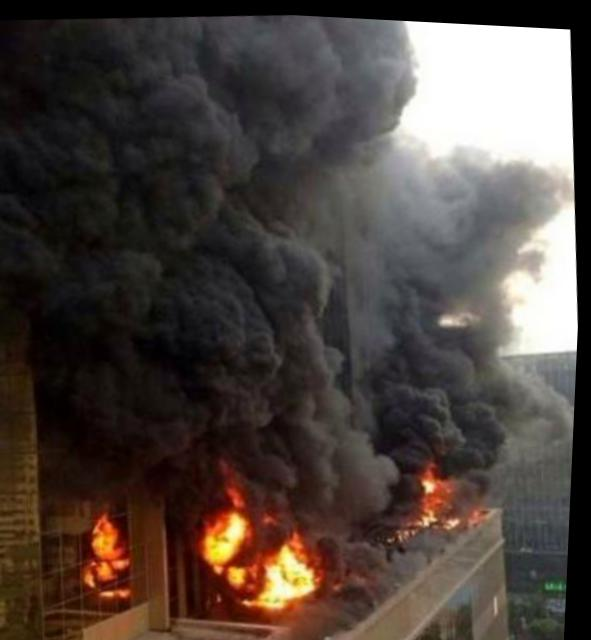fire: (200, 496, 254, 562), (266, 542, 322, 604), (420, 458, 463, 519), (94, 511, 127, 556), (88, 550, 131, 582), (105, 584, 140, 597)
